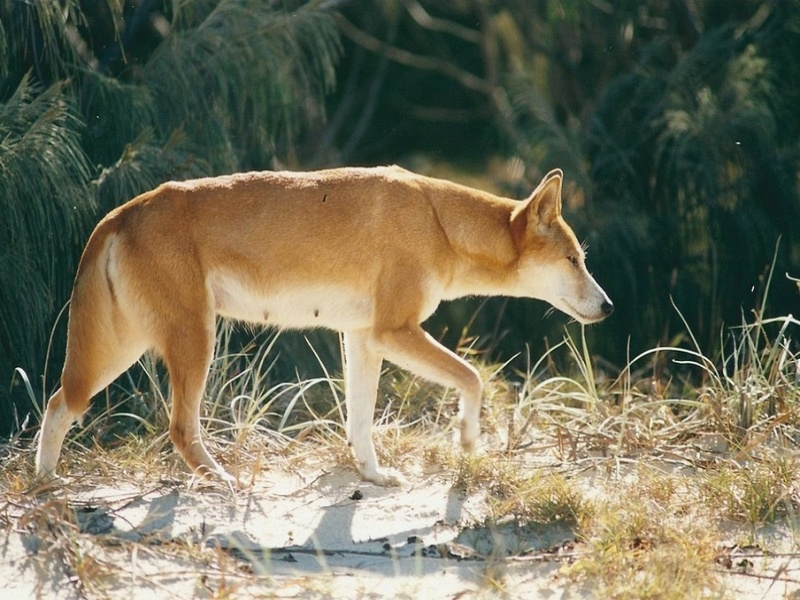dog: (26, 155, 617, 504)
